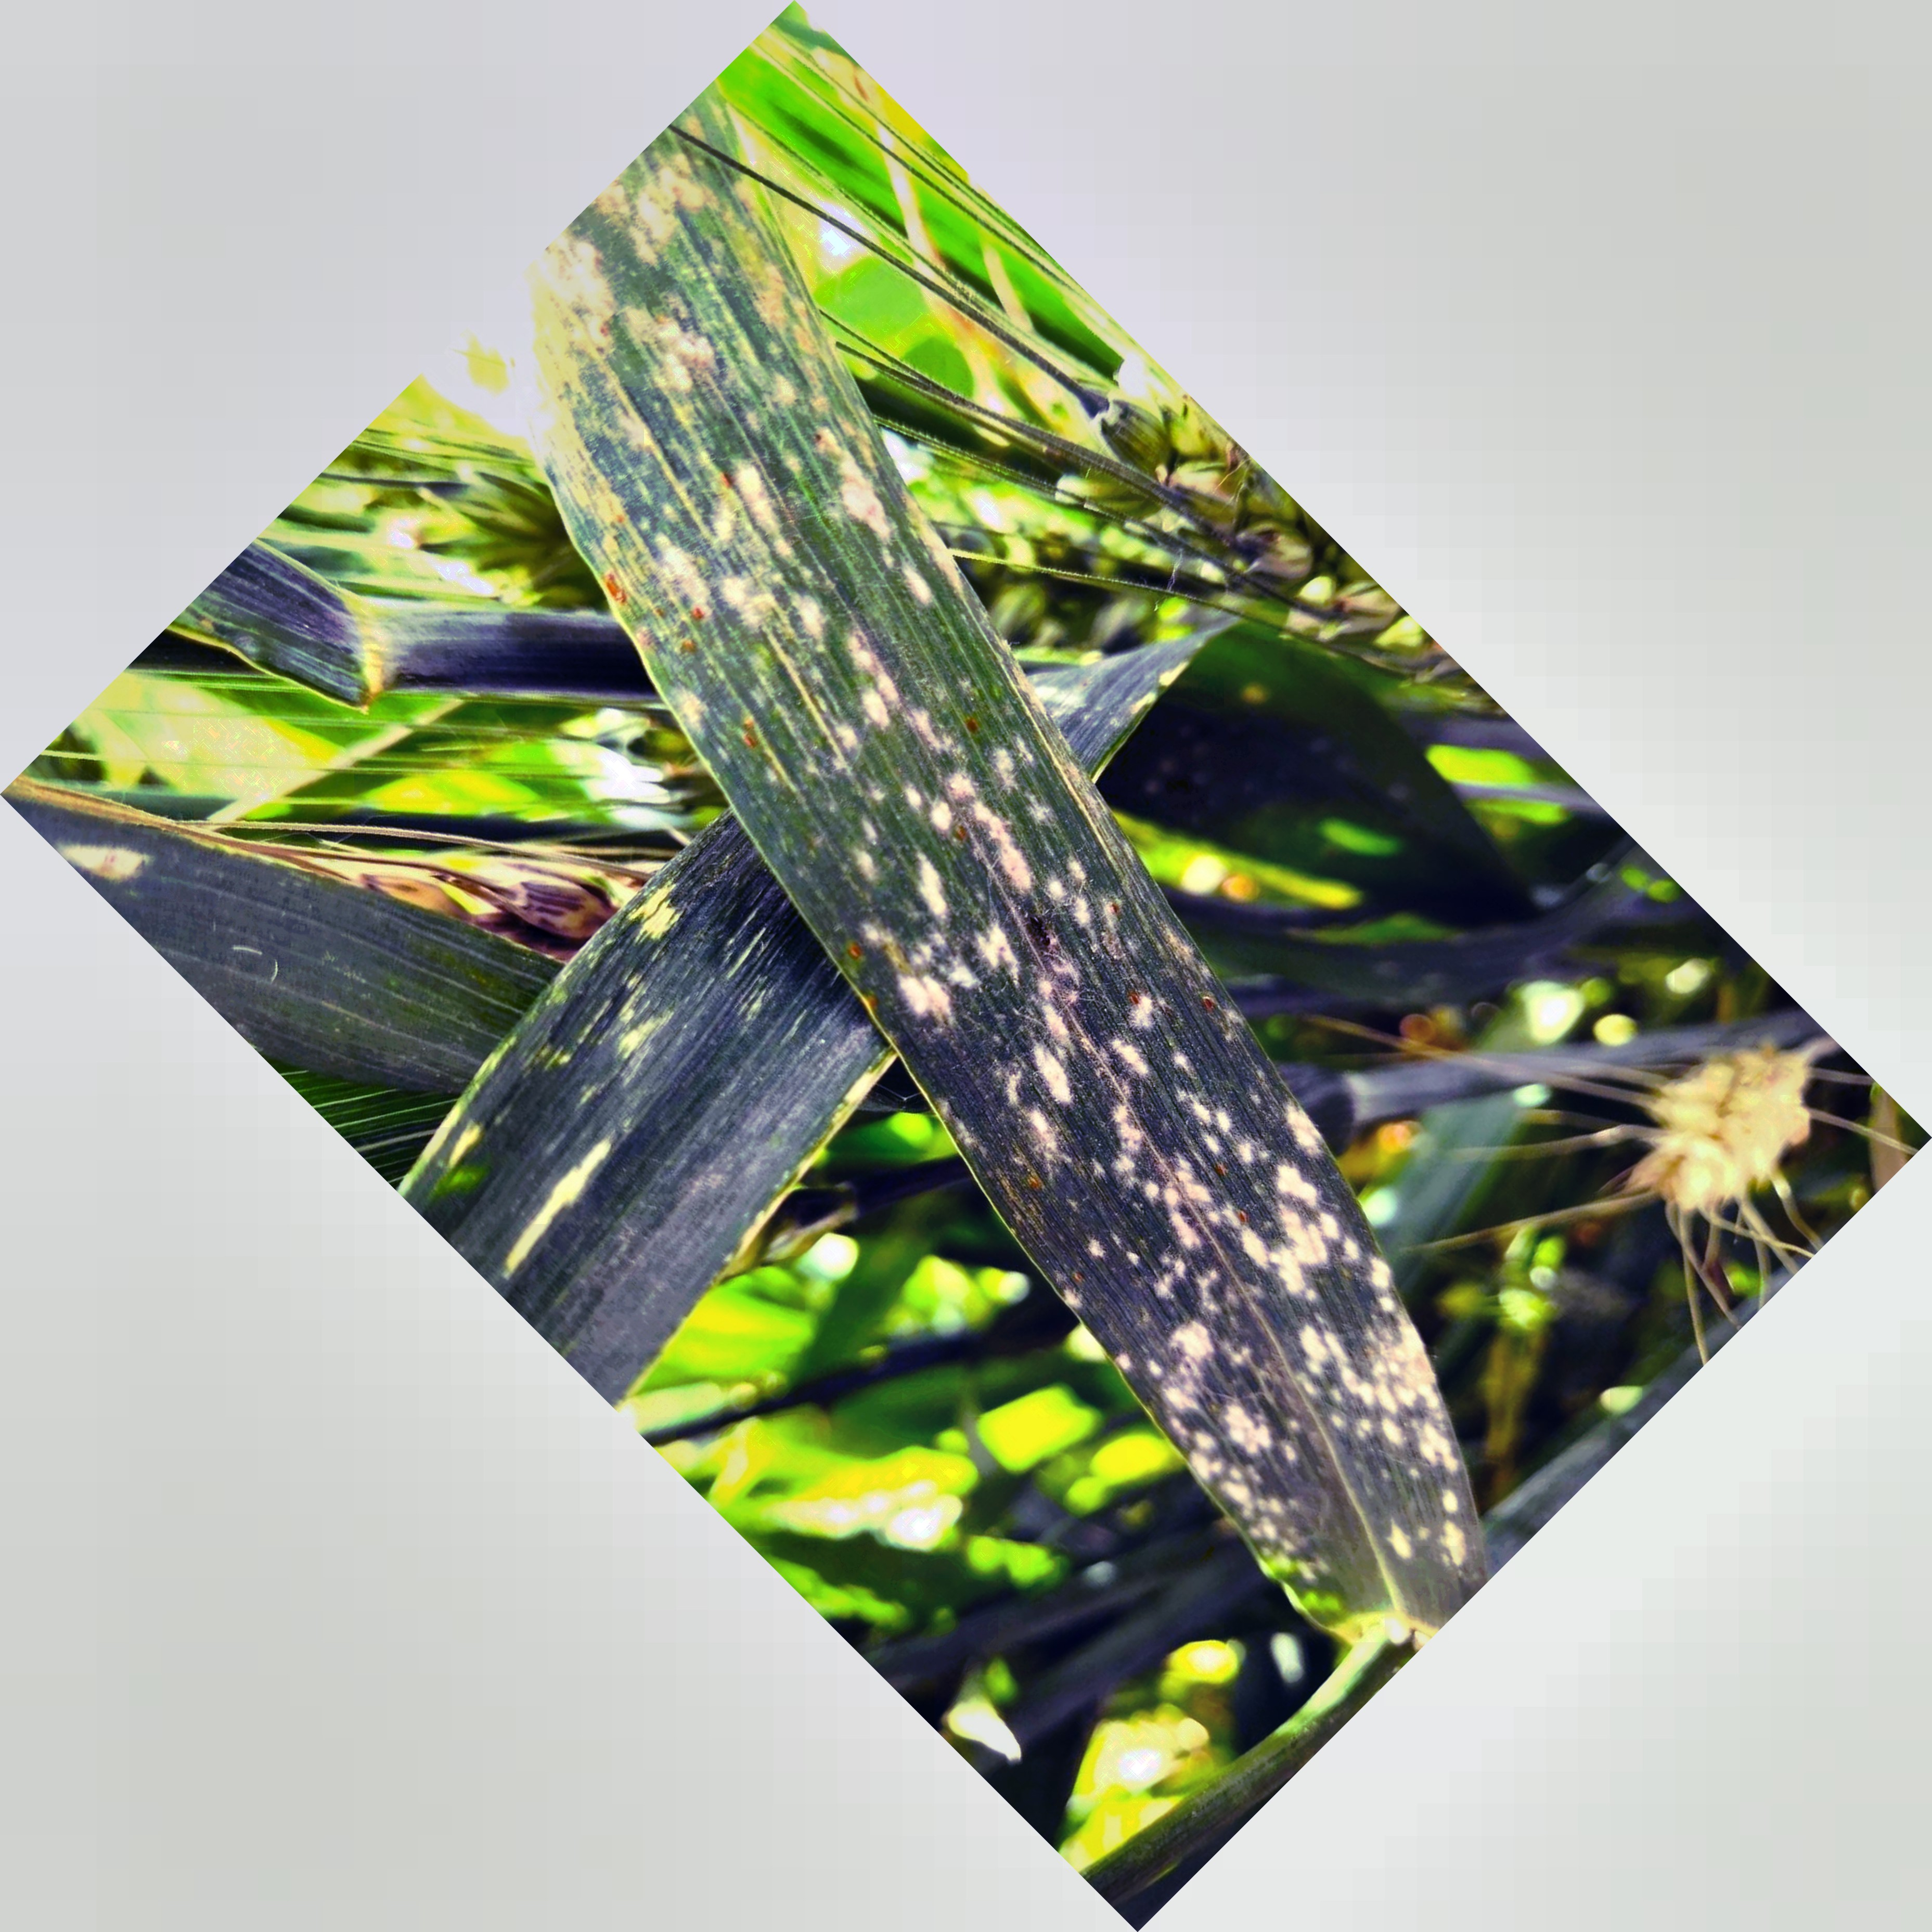Powdery Mildew: (846, 732, 1477, 1573)
